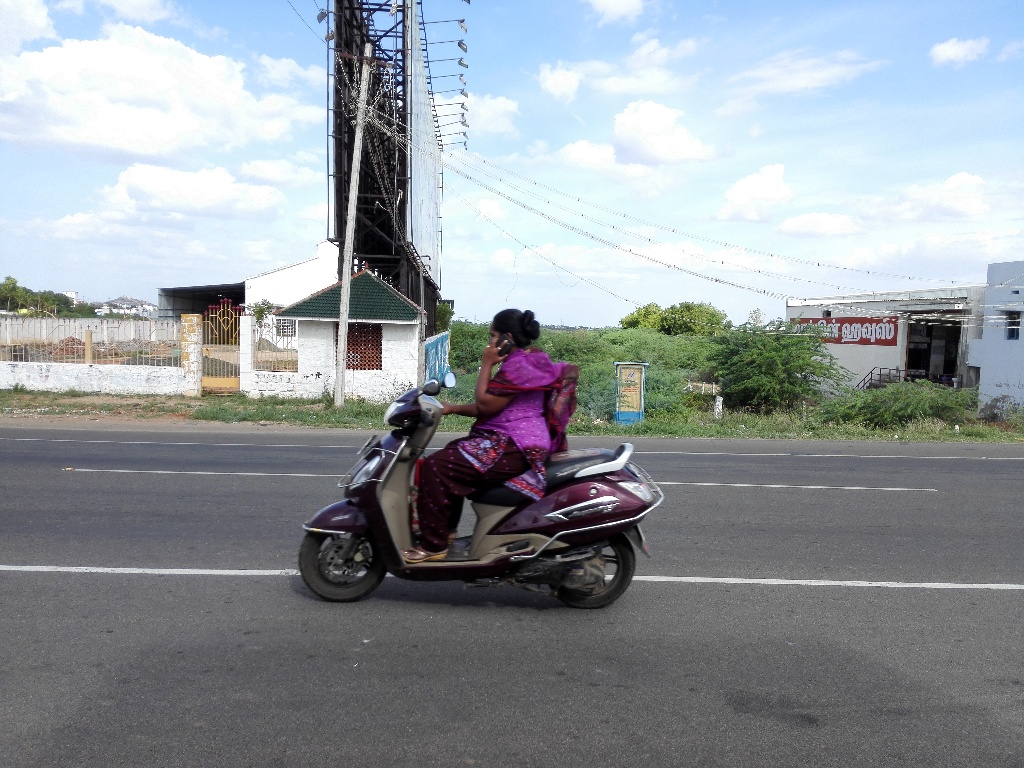biker: (271, 270, 687, 626)
nohelmet: (480, 293, 557, 371)
